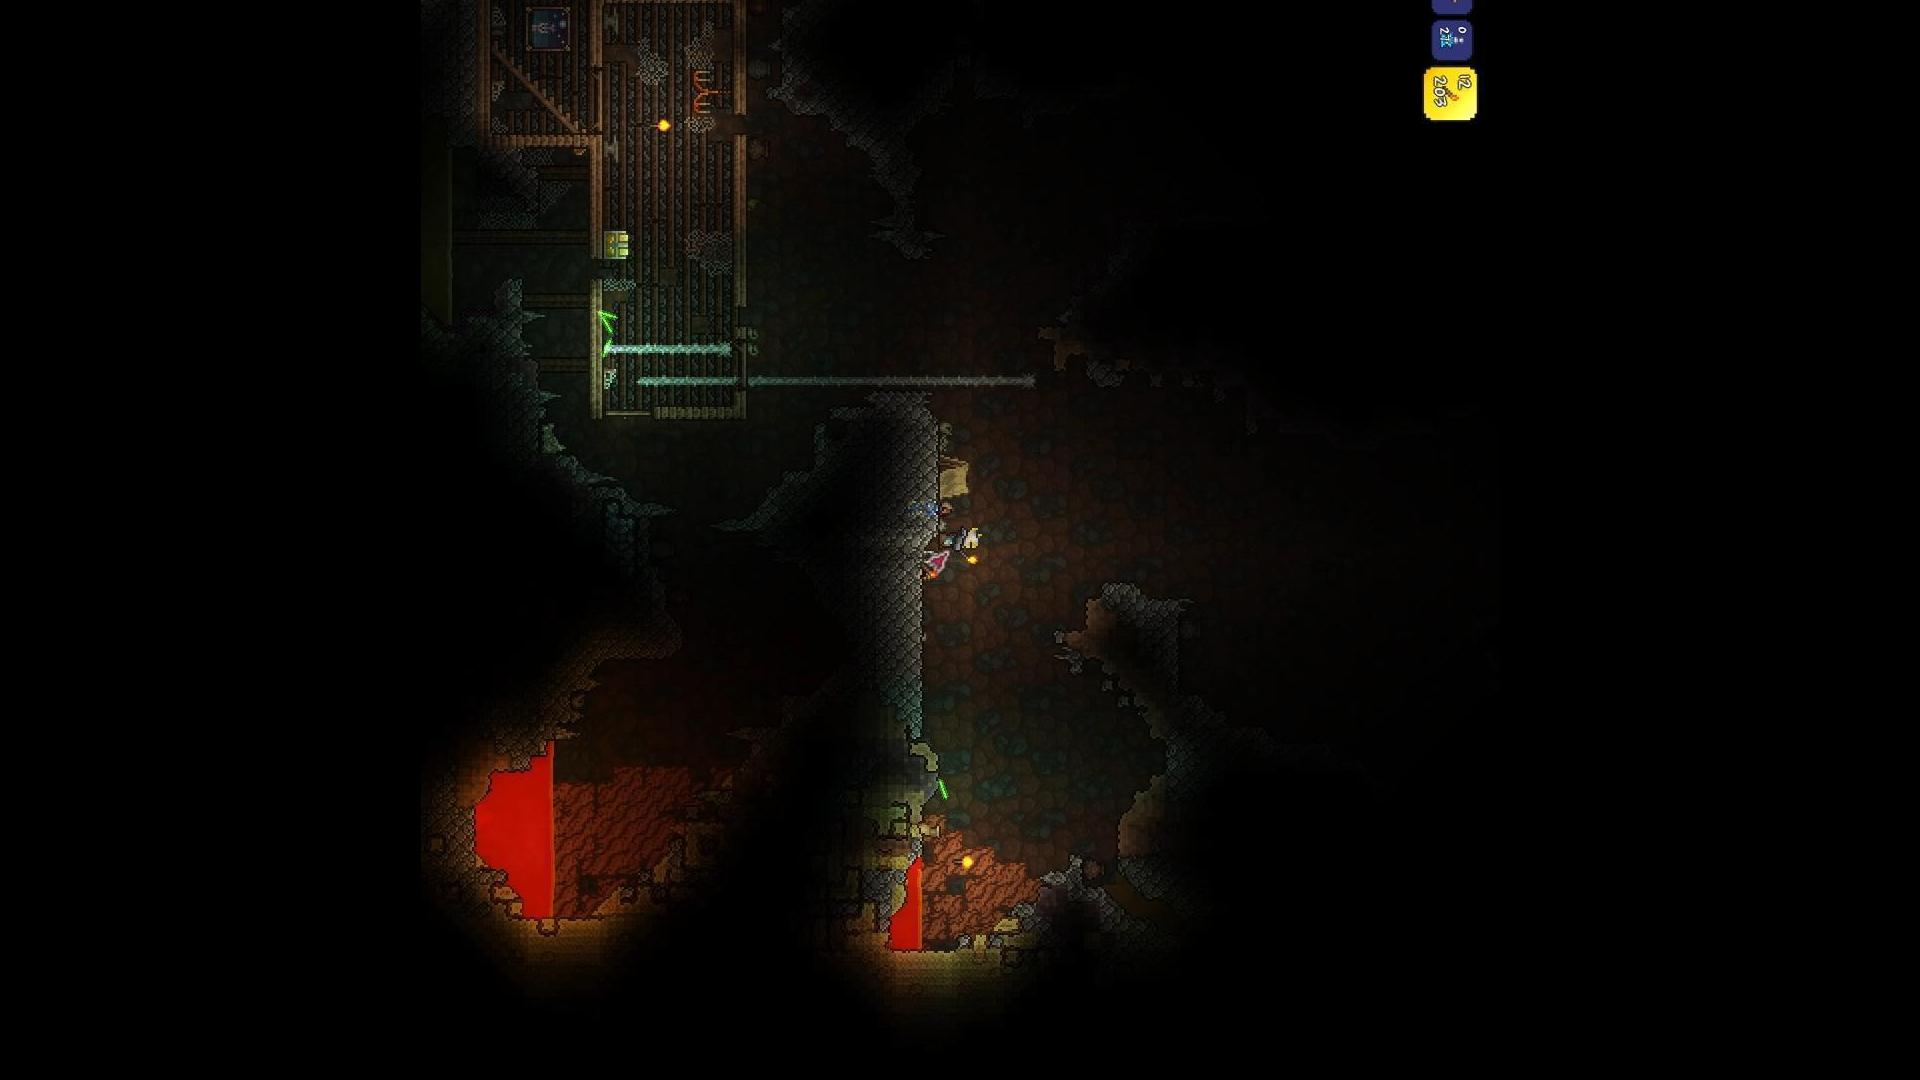anvil: (603, 132, 625, 166)
chest: (604, 228, 633, 264)
glowstick: (596, 310, 621, 334), (931, 774, 952, 802)
platform: (733, 344, 754, 393), (1443, 0, 1461, 8)
torchT: (1441, 82, 1461, 108), (948, 857, 977, 872), (653, 117, 674, 132)
